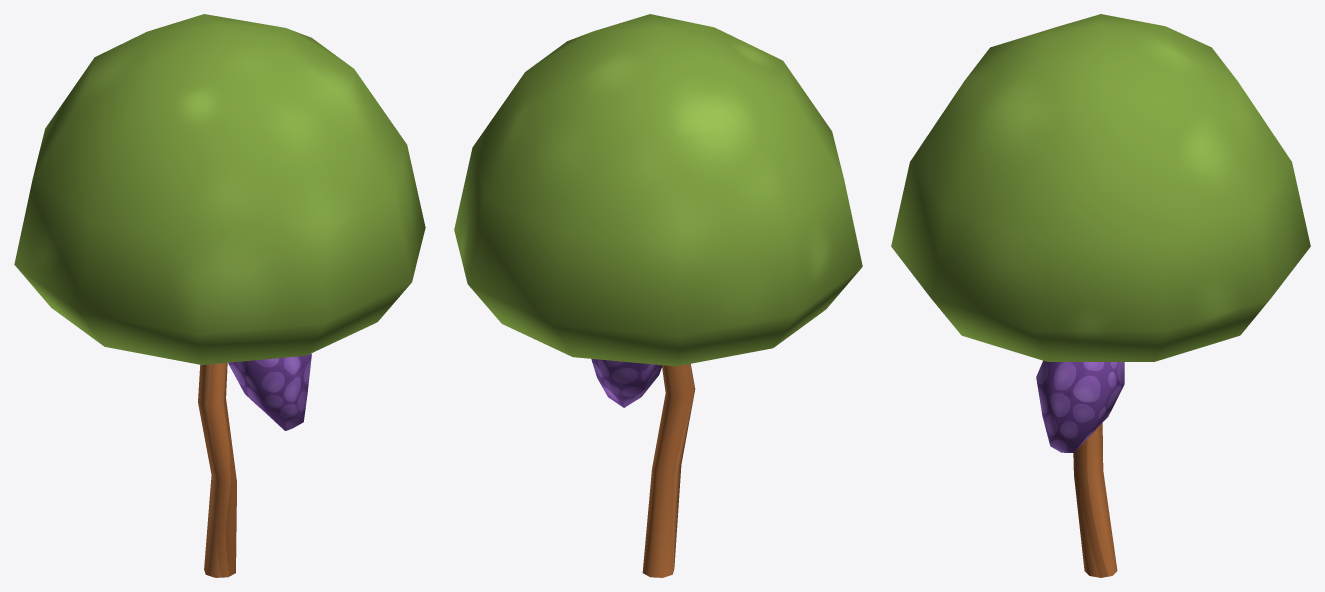
Rendered from Arvore_1_Uva.fbx.
3 views of the same model, side by side, from view 1: azimuth 30°, elevation 25°; view 2: azimuth 150°, elevation 25°; view 3: azimuth 270°, elevation 25° (orthographic).
Parts seen in each view (by area): view 1: Arvore_1_Uva; view 2: Arvore_1_Uva; view 3: Arvore_1_Uva.
Boxes of the visible parts, <box> form: Arvore_1_Uva: <box>14,14,425,577</box>; Arvore_1_Uva: <box>454,14,862,577</box>; Arvore_1_Uva: <box>891,14,1310,577</box>.
Size of the model in its own units: 105 by 158 by 111.
